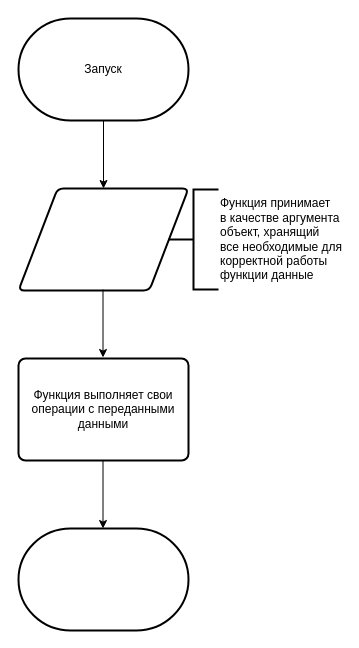
The diagram is 359 pixels wide and 648 high, and some of its shapes have lost their labels. The centre of each missing label's shape, as x and y in pixels:
Данные в виде объекта: point 103,239
Останов: point 103,579
